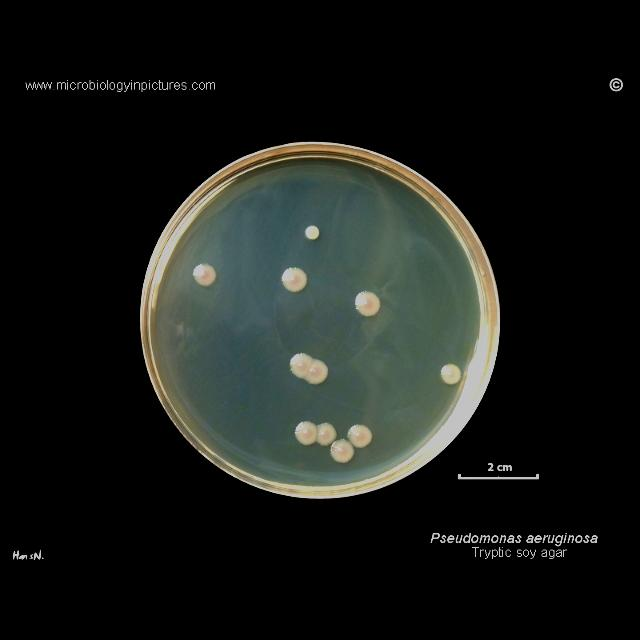colony: (282, 268, 308, 293), (355, 292, 380, 316), (305, 359, 329, 384), (290, 353, 312, 379), (295, 422, 318, 445), (194, 264, 216, 286), (316, 423, 336, 445), (441, 364, 461, 384), (306, 225, 320, 240)
